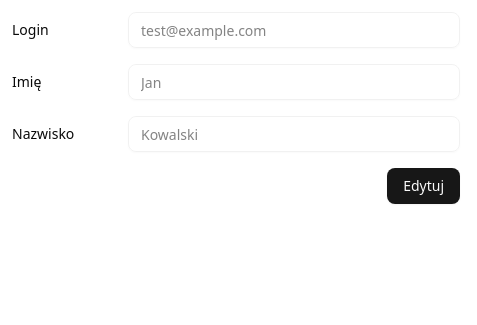
Test: Komponent UserProfile › włącza tryb edycji po kliknięciu przycisku Edytuj
Click the button "Edytuj" at (424, 186), box [387,168,460,204]
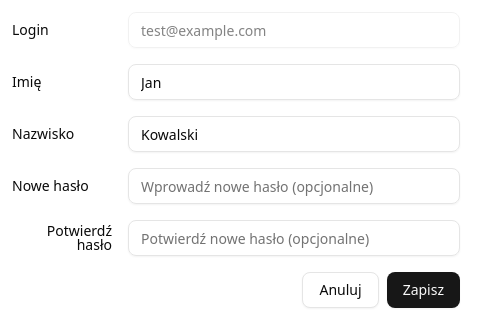
Now the button "Zapisz" is shown, box [387,272,460,308]
Now the button "Anuluj" is shown, box [302,272,379,308]
Now the password field labelled "Nowe hasło" is shown, box [128,168,460,204]
